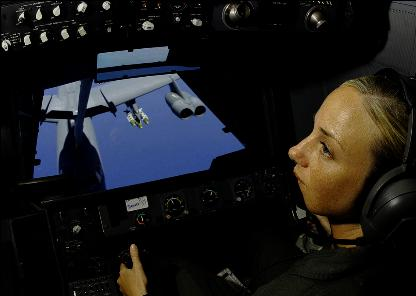B2: (38, 71, 204, 196)
